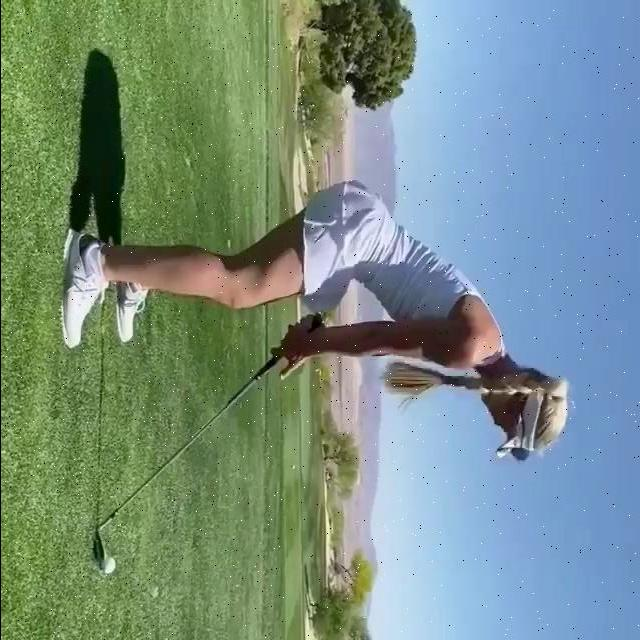golf ball: (101, 558, 114, 575)
golf club-handle: (92, 314, 322, 563)
golf club-head: (92, 532, 104, 565)
